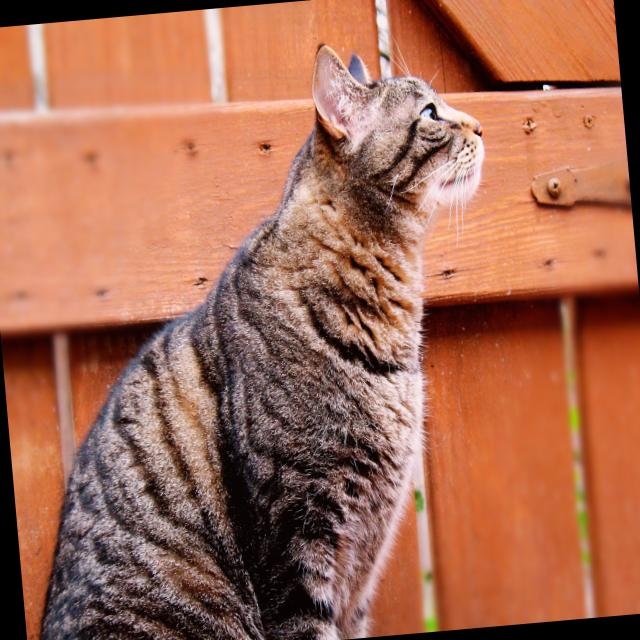cat: (0, 33, 526, 640)
